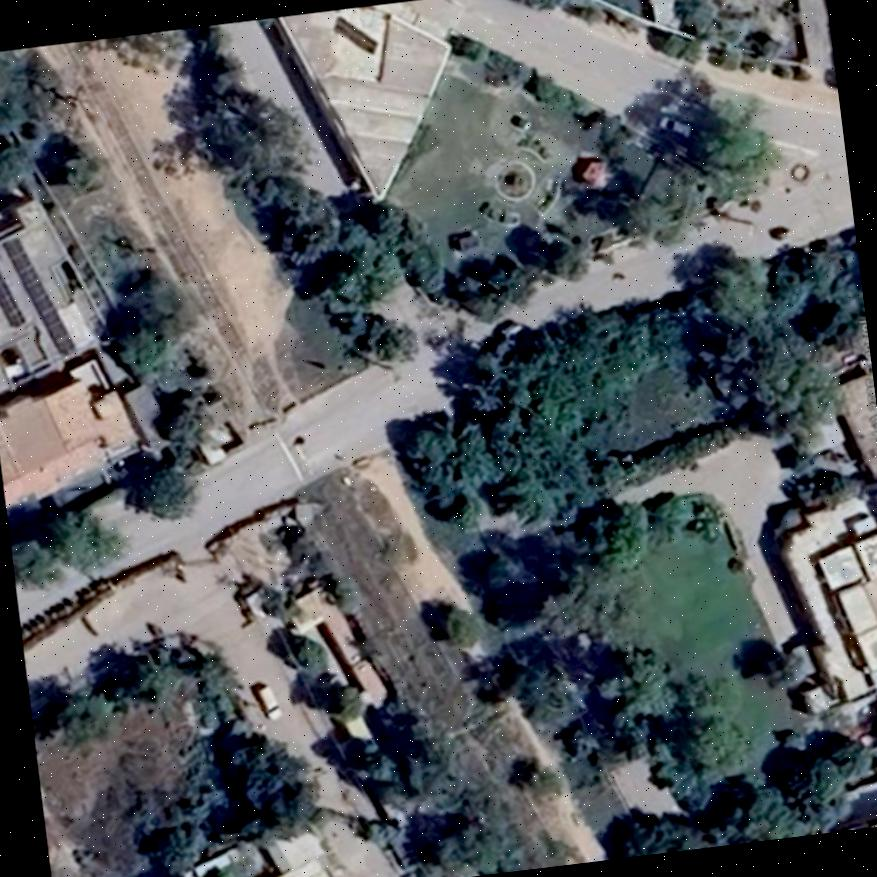Solarpanel: (4, 237, 73, 350), (0, 276, 23, 327)
